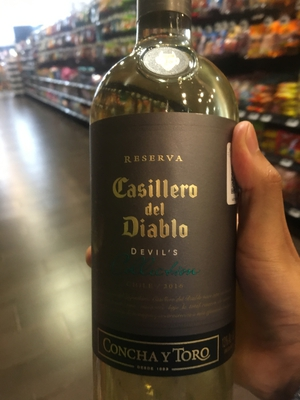casillero del diablo devils collection verde: (78, 8, 249, 400)
